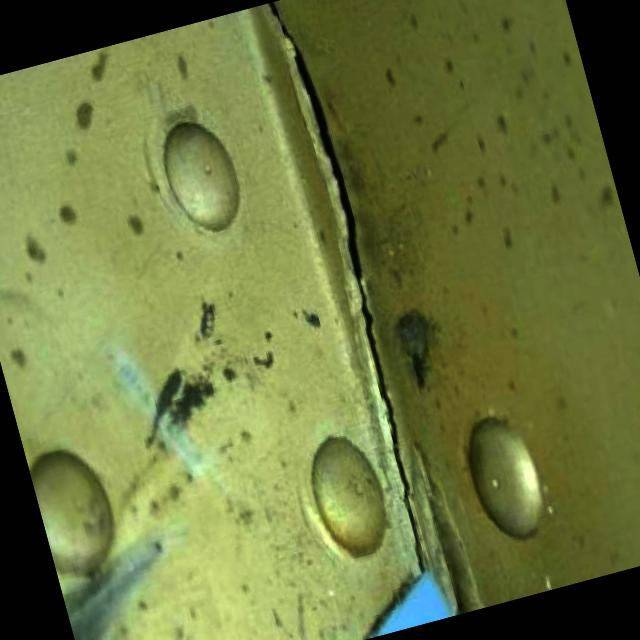crack: (265, 0, 432, 586)
